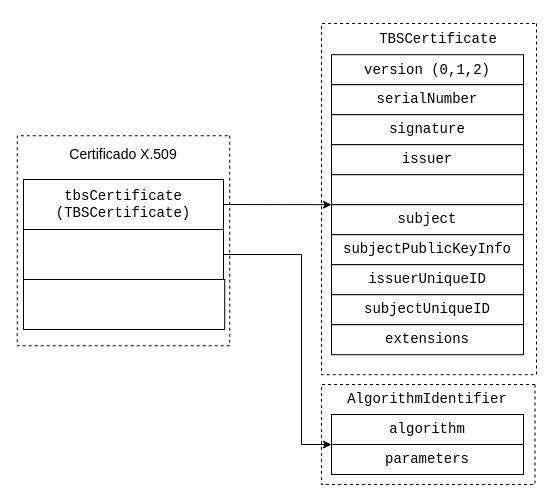
Some shapes in this 555 by 502 pixel diagram are drawn without their labels. The box of each missing label's shape, as (x1, y1, x2, y2) in pixels:
signatureAlgorithm (AlgorithmIdentifier): (22, 228, 224, 280)
signatureValue (BIT STRING): (22, 278, 225, 330)
validity: (330, 174, 524, 205)
